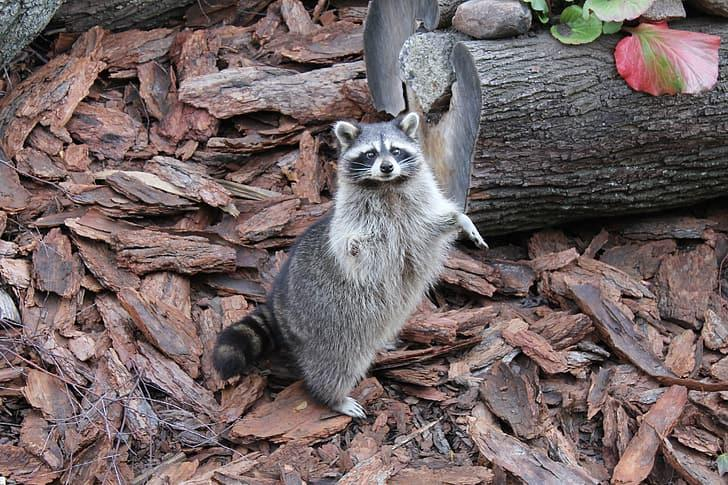raccoon: (213, 111, 489, 420)
